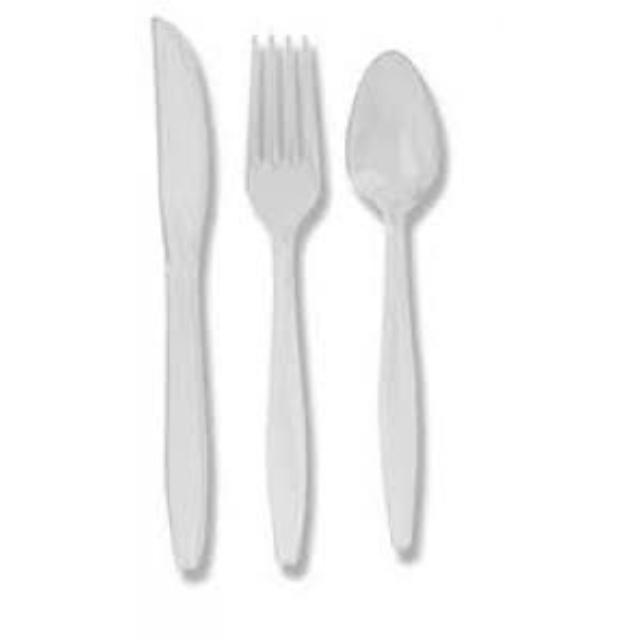Plastico descartable: (346, 51, 446, 559), (248, 38, 326, 573), (151, 18, 215, 578)
